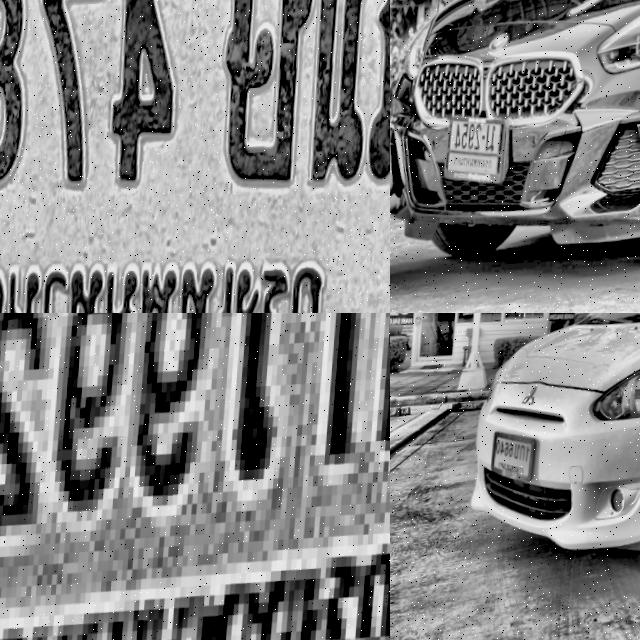license-plate: (0, 313, 390, 640), (0, 0, 390, 313), (439, 108, 521, 197), (490, 430, 541, 486)
